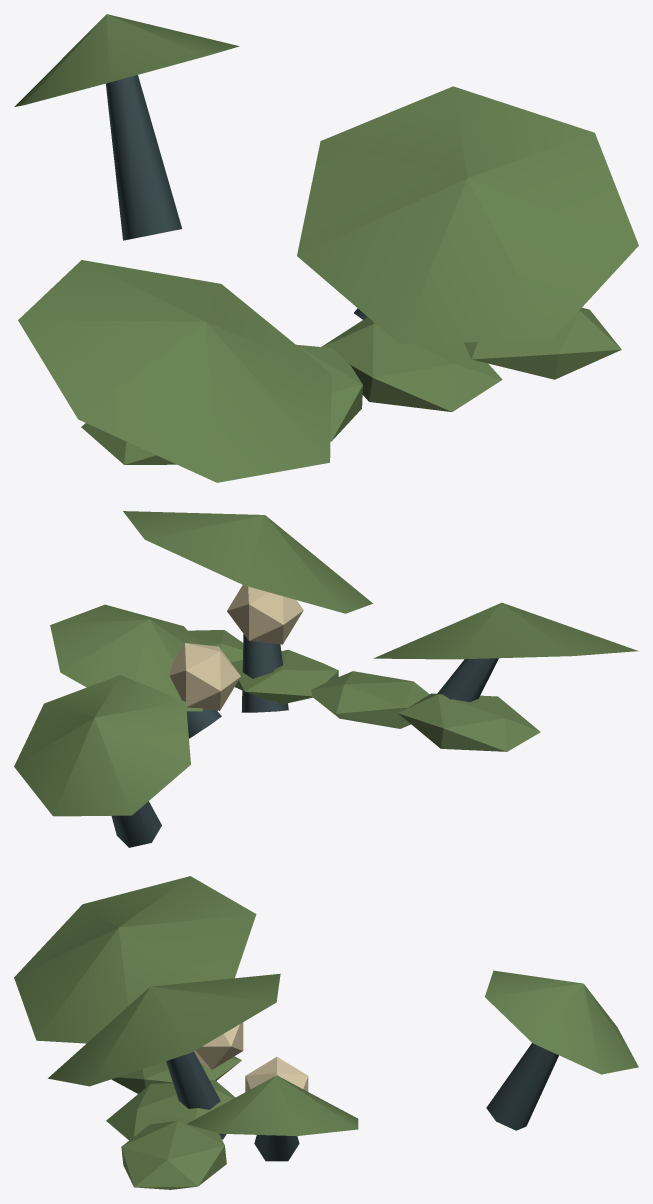
File: moss-scout.glb
The picture shows the model from 3 angles, top to bottom: view 1: azimuth 30°, elevation 25°; view 2: azimuth 150°, elevation 25°; view 3: azimuth 270°, elevation 25°; orthographic projection. The views are drawn at different scales.
Parts seen in each view (by area): view 1: moss-scout; view 2: moss-scout; view 3: moss-scout.
Part boxes in pixels (<box>): moss-scout: <box>14,14,638,482</box>; moss-scout: <box>14,511,638,847</box>; moss-scout: <box>14,876,638,1189</box>.
Bounding box in the file's own units: 1.29 × 0.4822 × 1.52.
